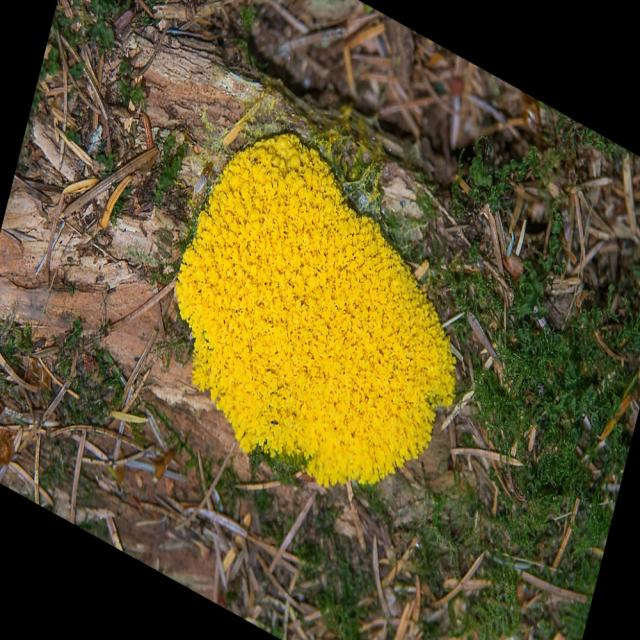Dog_vomit_slime_mold: (163, 143, 484, 472)
